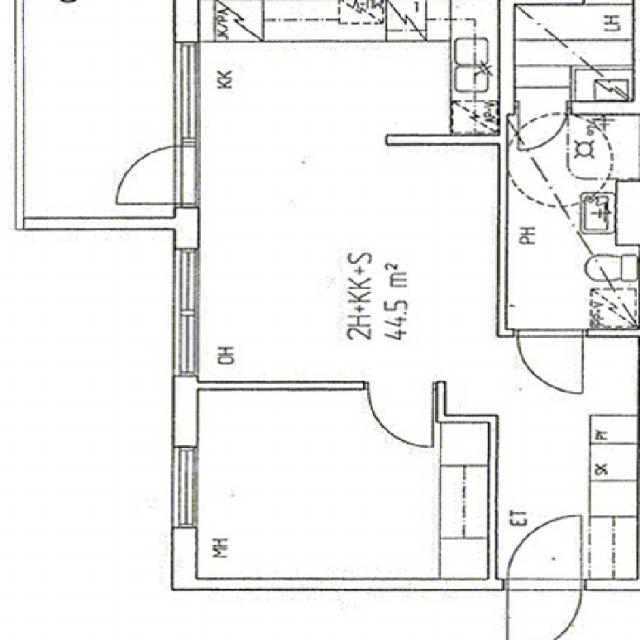door: (508, 513, 581, 589), (108, 146, 198, 203), (507, 576, 581, 640), (518, 329, 583, 394), (368, 381, 432, 445), (520, 101, 566, 156)
